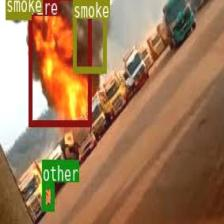fire: (28, 0, 90, 125)
smoke: (72, 0, 105, 72), (6, 0, 31, 18)
